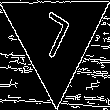L_SW: (33, 7, 78, 67)
